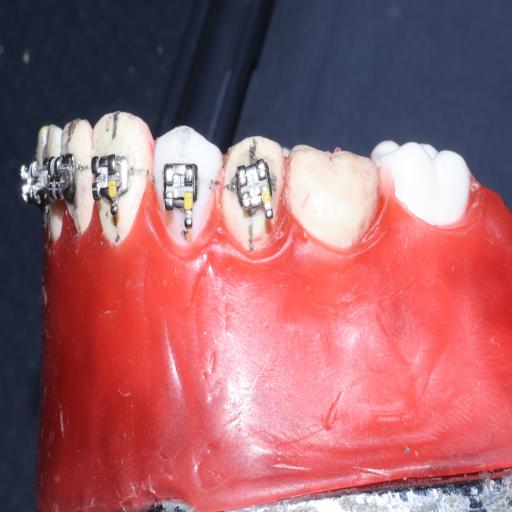incorrect_brace: (232, 164, 275, 214)
